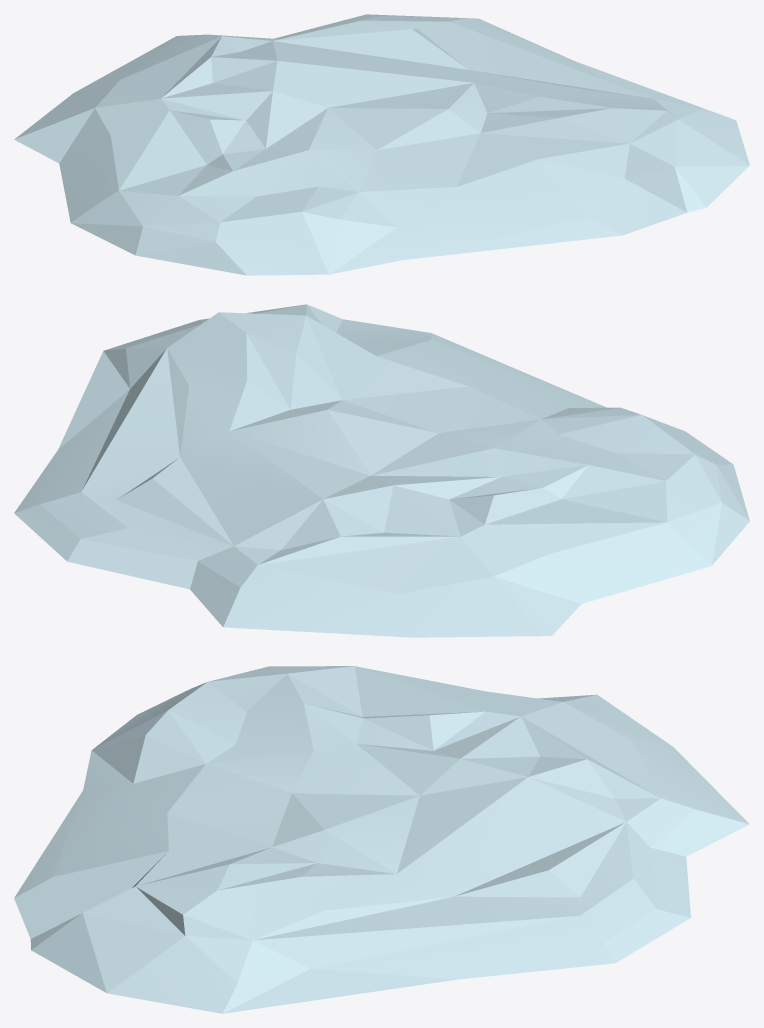
Rendered from Parche_Nieve01.glb.
The picture shows the model from 3 angles, top to bottom: view 1: azimuth 30°, elevation 25°; view 2: azimuth 150°, elevation 25°; view 3: azimuth 270°, elevation 25°; orthographic projection. The views are drawn at different scales.
Visible parts, largest first — view 1: SM_Env_GrassPatch_01_Snow; view 2: SM_Env_GrassPatch_01_Snow; view 3: SM_Env_GrassPatch_01_Snow.
Boxes of the visible parts, x1,y1,x2,y2 form: SM_Env_GrassPatch_01_Snow: (14,14,749,275); SM_Env_GrassPatch_01_Snow: (14,304,749,637); SM_Env_GrassPatch_01_Snow: (14,666,749,1013).
Size of the model in its own units: 2.65 by 0.1864 by 2.39.
1 material, 1 textured.
